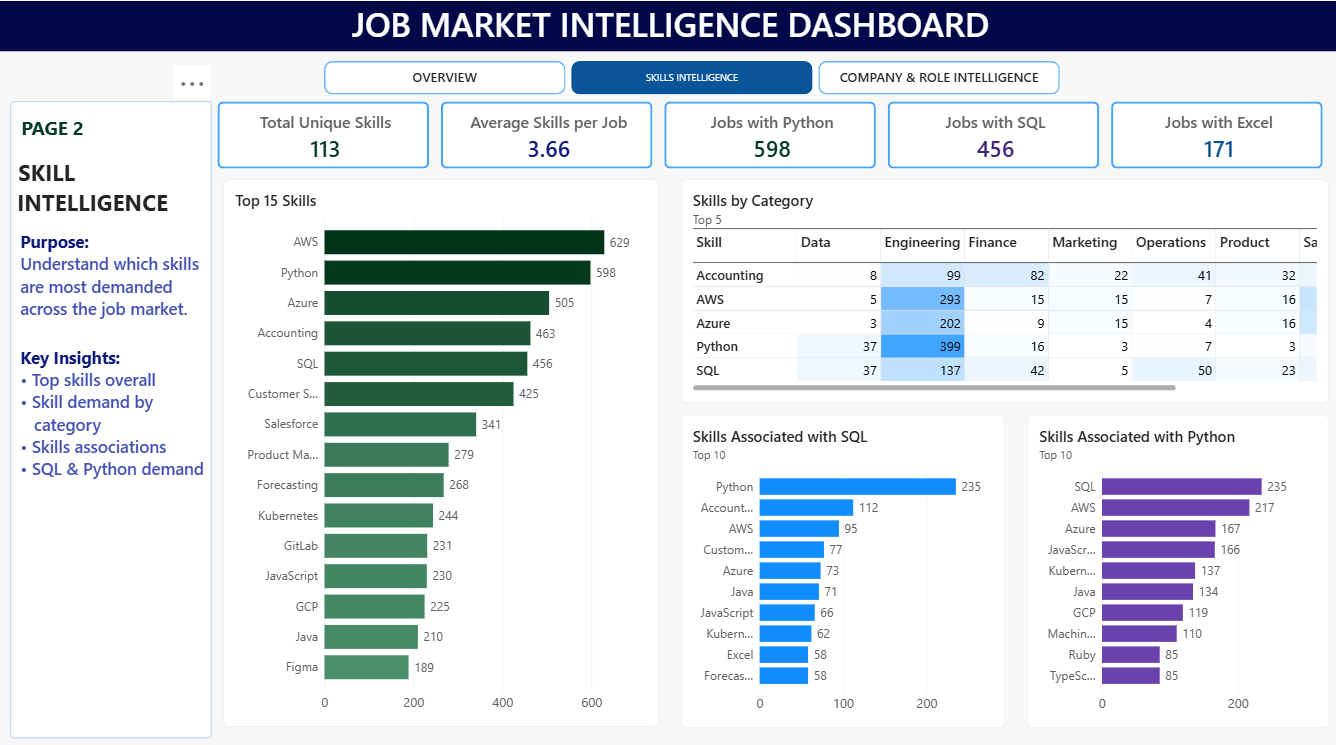

The dashboard page shown, as its layout file describes it:
{"tool":"powerbi","page":{"name":"SKILLS INTELLIGENCE","canvas":[1920,1080],"ordinal":1},"visuals":[{"type":"textbox","box":[0,0,1920,72],"z":0},{"type":"pageNavigator","box":[465,85,1056,48],"z":1000},{"type":"cardVisual","fields":{"Data":["_Measures.Total Skills","_Measures.Average Skills per Job","_Measures.Jobs with Pyhton","_Measures.Jobs with SQL","_Measures.Jobs with Power BI"]},"box":[312,144,1584,96],"z":2000},{"type":"clusteredBarChart","title":"Top 15 Skills ","fields":{"Category":["skills.skill_name"],"Y":["_Measures.Job Count by Skill"]},"box":[320,256,624,784],"z":3000},{"type":"pivotTable","title":"Skills by Category","fields":{"Columns":["jobs.category"],"Rows":["skills.skill_name"],"Values":["_Measures.Job Count by Skill"]},"box":[976,256,928,320],"z":4000},{"type":"barChart","title":"Skills Associated with SQL","fields":{"Category":["skills.skill_name"],"Y":["_Measures.Skills in SQL Jobs"]},"box":[976,592,464,448],"z":5000},{"type":"barChart","title":"Skills Associated with Python","fields":{"Category":["skills.skill_name"],"Y":["_Measures.Skills in Python Jobs"]},"box":[1472,592,432,448],"z":6000},{"type":"textbox","box":[16,144,288,912],"z":7000}]}

Visuals, with their boxes in screenshot pixels (x1, y1, x2, y2), scaled from the page's 1920x1080 canvas onto the 1336x745 screenshot:
textbox: <box>0,0,1335,50</box>
pageNavigator: <box>324,59,1058,92</box>
cardVisual - _Measures.Total Skills x _Measures.Average Skills per Job: <box>217,99,1319,166</box>
"Top 15 Skills " clusteredBarChart: <box>223,177,657,717</box>
"Skills by Category" pivotTable: <box>679,177,1325,397</box>
"Skills Associated with SQL" barChart: <box>679,408,1002,717</box>
"Skills Associated with Python" barChart: <box>1024,408,1325,717</box>
textbox: <box>11,99,212,728</box>
